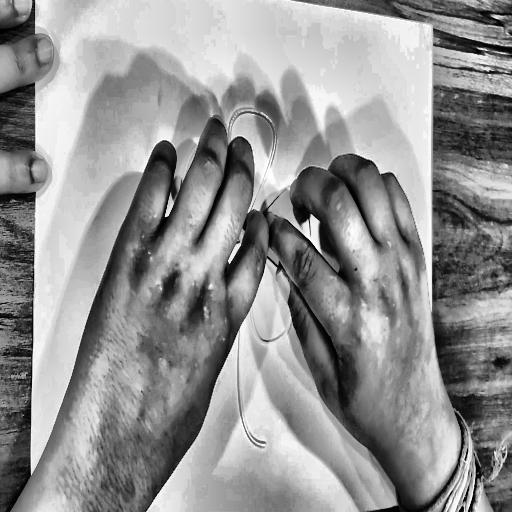bottom_right: (429, 487, 436, 500)
flower: (167, 93, 319, 459)
top_right: (428, 18, 436, 33)
